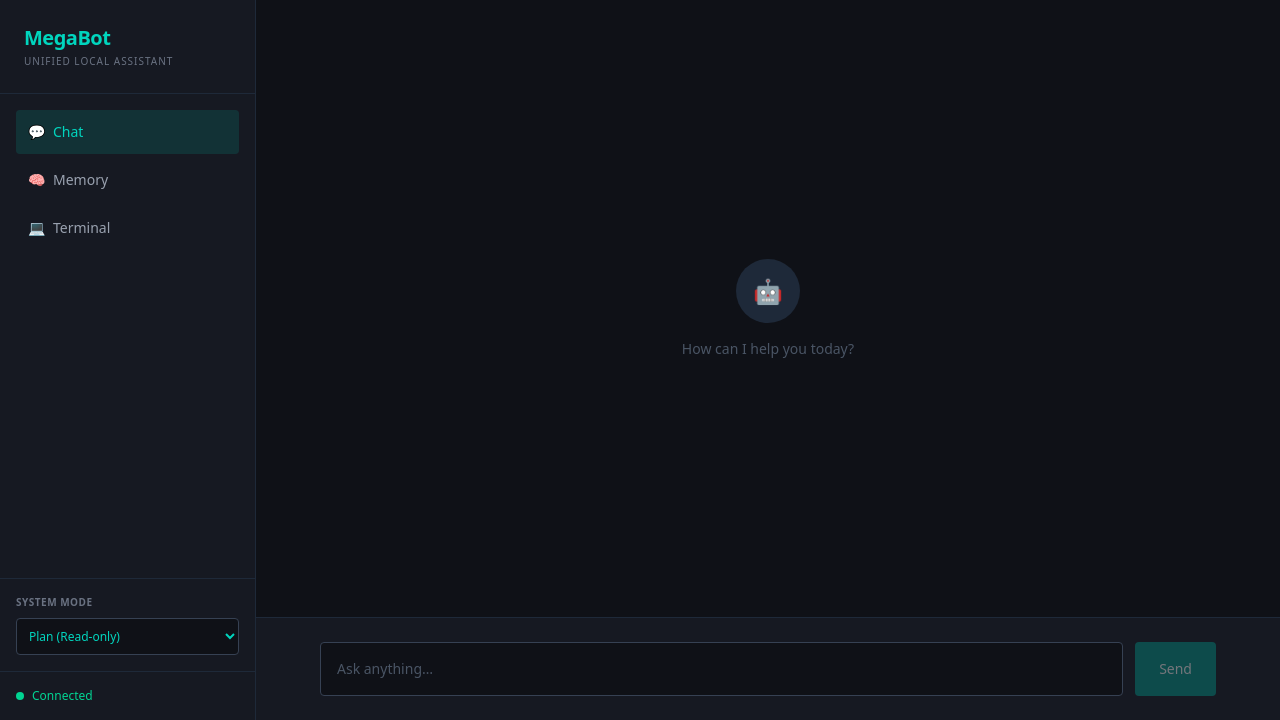
Test case: App Component › sends a chat message and clears input
The width and height of the screenshot is (1280, 720).
Type "test message" into the field with placeholder "Ask anything…" at (722, 669), box [320,642,1123,696]
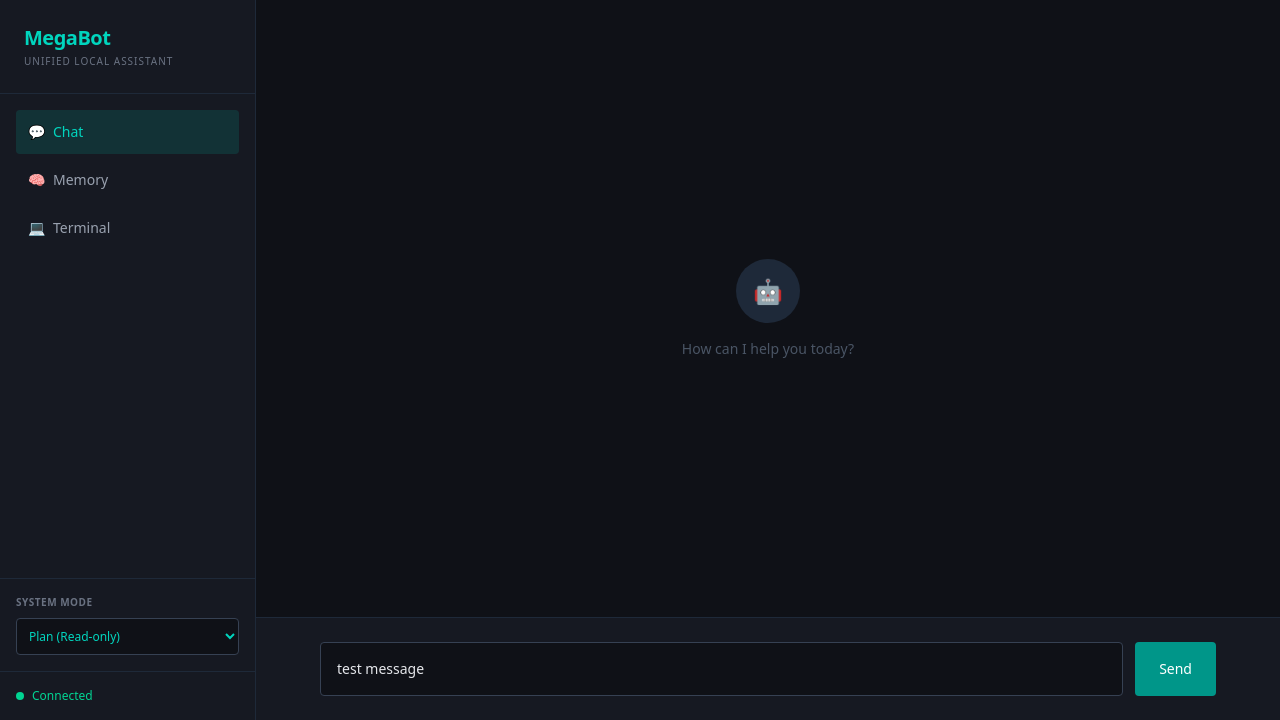
Click the button with aria-label "Send message" at (1176, 669), box [1135,642,1216,696]
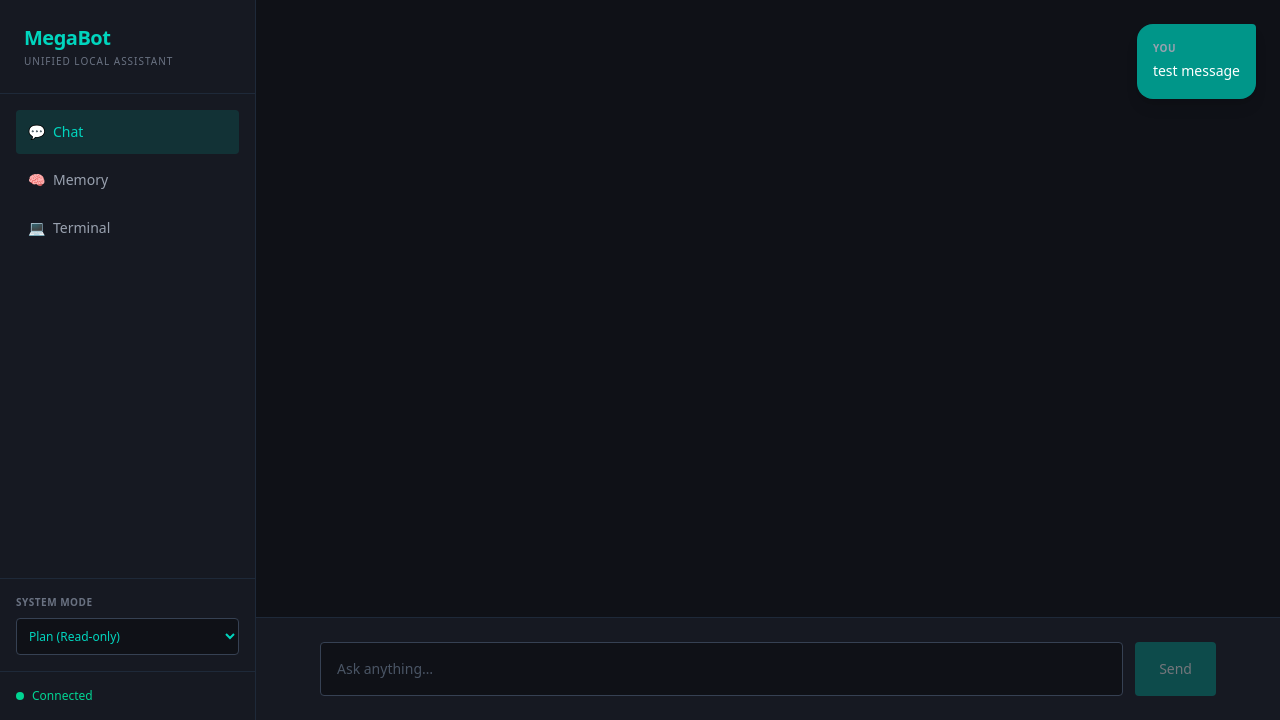
Result: the text "test message" is shown at [1153,60,1240,83]
Result: the field with placeholder "Ask anything…" is empty at [320,642,1123,696]
